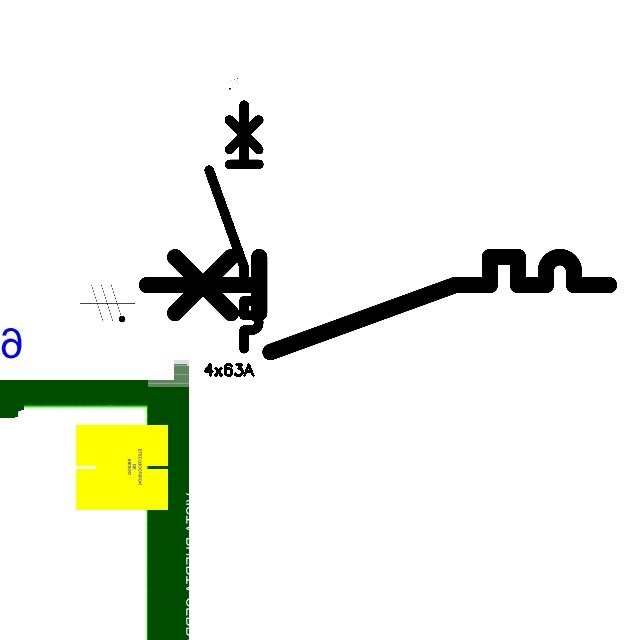interruptor_termomagnetico: (134, 245, 620, 364), (203, 98, 265, 354)
